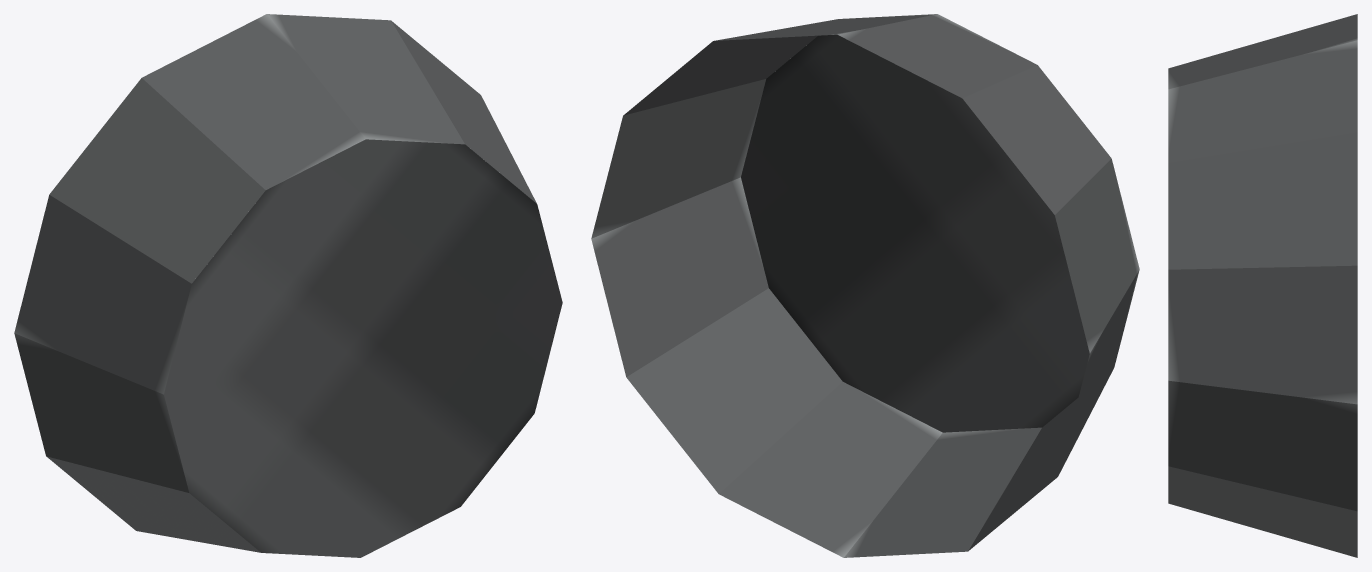
File: wvr.obj
3 views of the same model, side by side, from view 1: azimuth 30°, elevation 25°; view 2: azimuth 150°, elevation 25°; view 3: azimuth 270°, elevation 25° (orthographic). The views are drawn at different scales.
Visible parts, largest first — view 1: torus.001; view 2: torus.001; view 3: torus.001.
Part boxes in pixels (bbox=[...]): torus.001: bbox=[14, 14, 562, 557]; torus.001: bbox=[591, 14, 1139, 557]; torus.001: bbox=[1168, 14, 1357, 557].
Bounding box in the file's own units: 0.3235 × 0.3235 × 0.1121.
